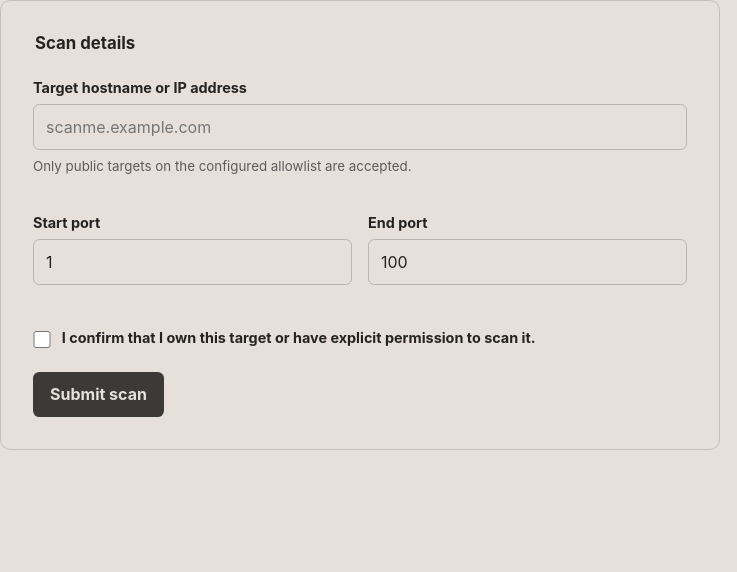
ScanForm › shows client validation and does not submit invalid input
Type "https://example.com/path" into the field labelled "Target hostname or IP address" at point(360, 127), box [33,104,687,150]
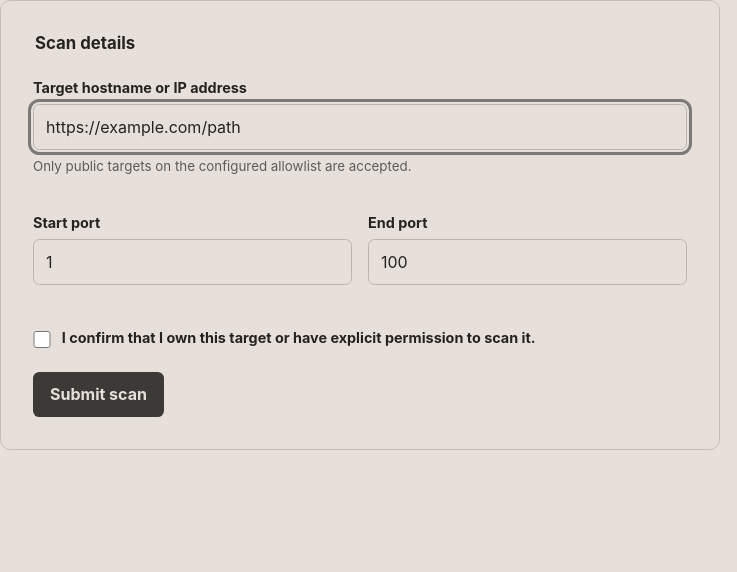
Clear the number field labelled "Start port" at point(192, 262), box [33,239,352,285]
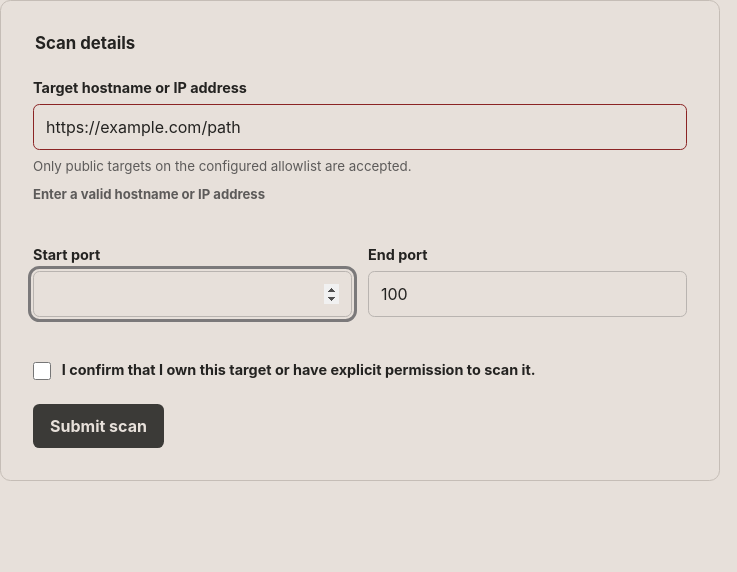
Type "70000" into the number field labelled "Start port" at point(192, 294), box [33,271,352,317]
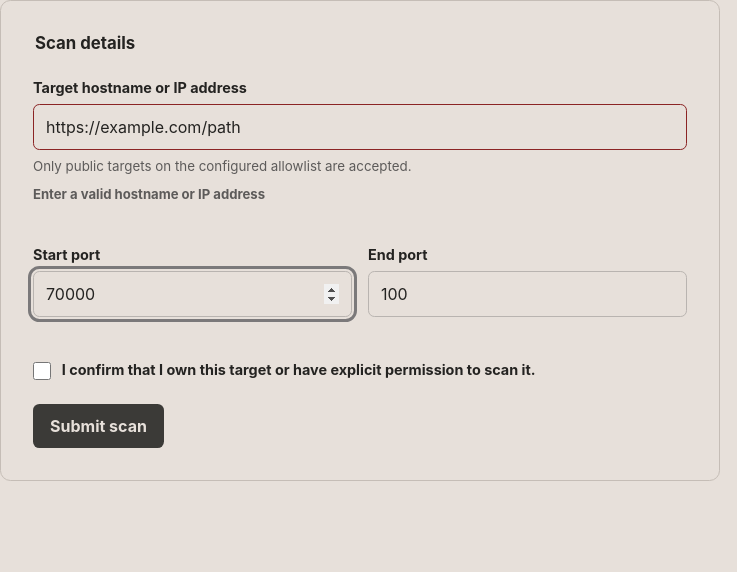
Click the button "Submit scan" at point(98, 426), box [33,404,164,448]
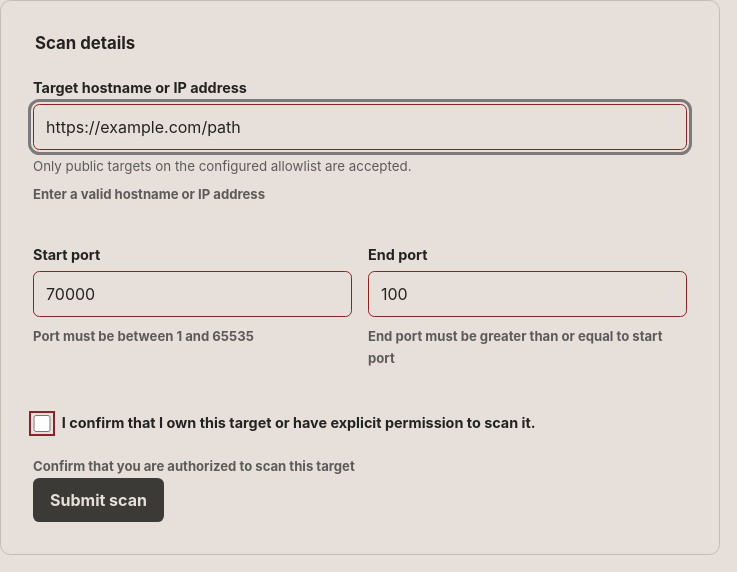
Now the text "Enter a valid hostname or IP address" is shown, box [33,186,265,202]
Now the text "Port must be between 1 and 65535" is shown, box [33,328,254,344]
Now the text "Confirm that you are authorized to scan this target" is shown, box [33,458,355,474]
